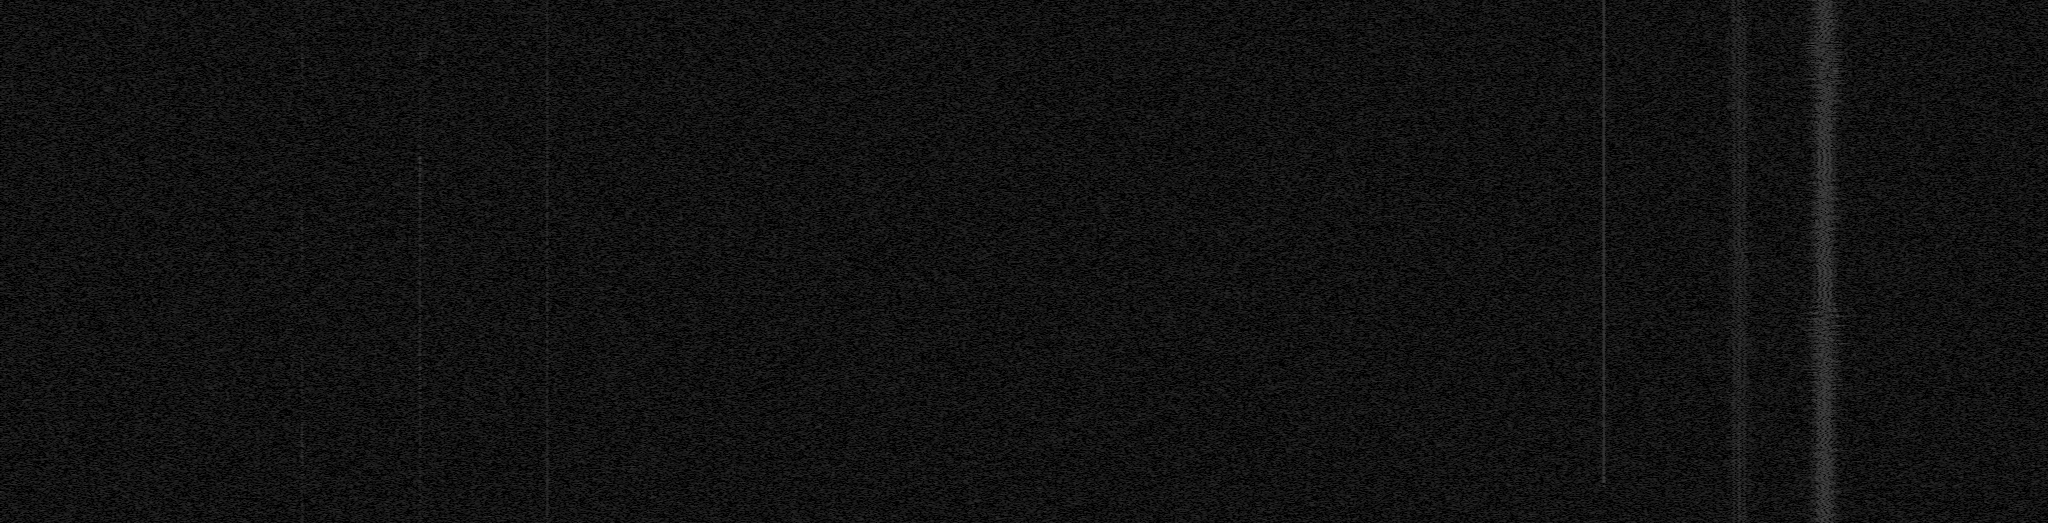wv_am: (1601, 0, 1607, 475), (545, 88, 550, 523), (545, 0, 550, 86), (1601, 476, 1607, 486)
wv_usb: (417, 116, 423, 523), (300, 413, 306, 523), (300, 41, 306, 90), (440, 479, 445, 523), (300, 242, 306, 286), (440, 33, 445, 76), (300, 3, 306, 41), (300, 328, 304, 375), (300, 209, 306, 241), (418, 78, 422, 115), (417, 51, 422, 75), (440, 220, 445, 239), (300, 305, 304, 327), (300, 380, 304, 400), (440, 426, 445, 441), (440, 146, 444, 162), (440, 97, 444, 112), (300, 92, 304, 107), (418, 37, 422, 50), (418, 25, 422, 37), (300, 288, 304, 299), (441, 462, 444, 477), (440, 128, 444, 139), (440, 85, 444, 95), (300, 401, 304, 412), (440, 163, 444, 173), (440, 118, 444, 127), (440, 212, 445, 218), (440, 77, 445, 84), (441, 441, 445, 448), (441, 241, 445, 248), (441, 3, 444, 14), (300, 109, 304, 116), (440, 26, 445, 31), (441, 194, 445, 200), (300, 129, 304, 136), (418, 10, 422, 17), (418, 3, 422, 9), (441, 298, 444, 307), (441, 16, 444, 25), (441, 339, 444, 346), (440, 276, 444, 281), (440, 140, 444, 145), (300, 299, 304, 305), (300, 194, 304, 199), (418, 18, 422, 24), (300, 122, 304, 127), (300, 116, 304, 122), (441, 258, 444, 264), (440, 112, 444, 116), (441, 269, 444, 275), (441, 450, 444, 454), (441, 408, 444, 412), (441, 384, 444, 388), (441, 380, 444, 384), (441, 370, 444, 374), (441, 319, 444, 323), (441, 310, 444, 314), (441, 289, 444, 293), (441, 254, 444, 258), (441, 250, 445, 252), (441, 207, 444, 211), (441, 180, 444, 184), (300, 377, 304, 379), (300, 200, 304, 203), (441, 455, 444, 458), (441, 413, 444, 416), (441, 404, 444, 407), (441, 366, 444, 369), (441, 348, 444, 350), (441, 265, 444, 268)
wv_wbfm: (1796, 0, 1852, 523), (1723, 0, 1755, 523)
